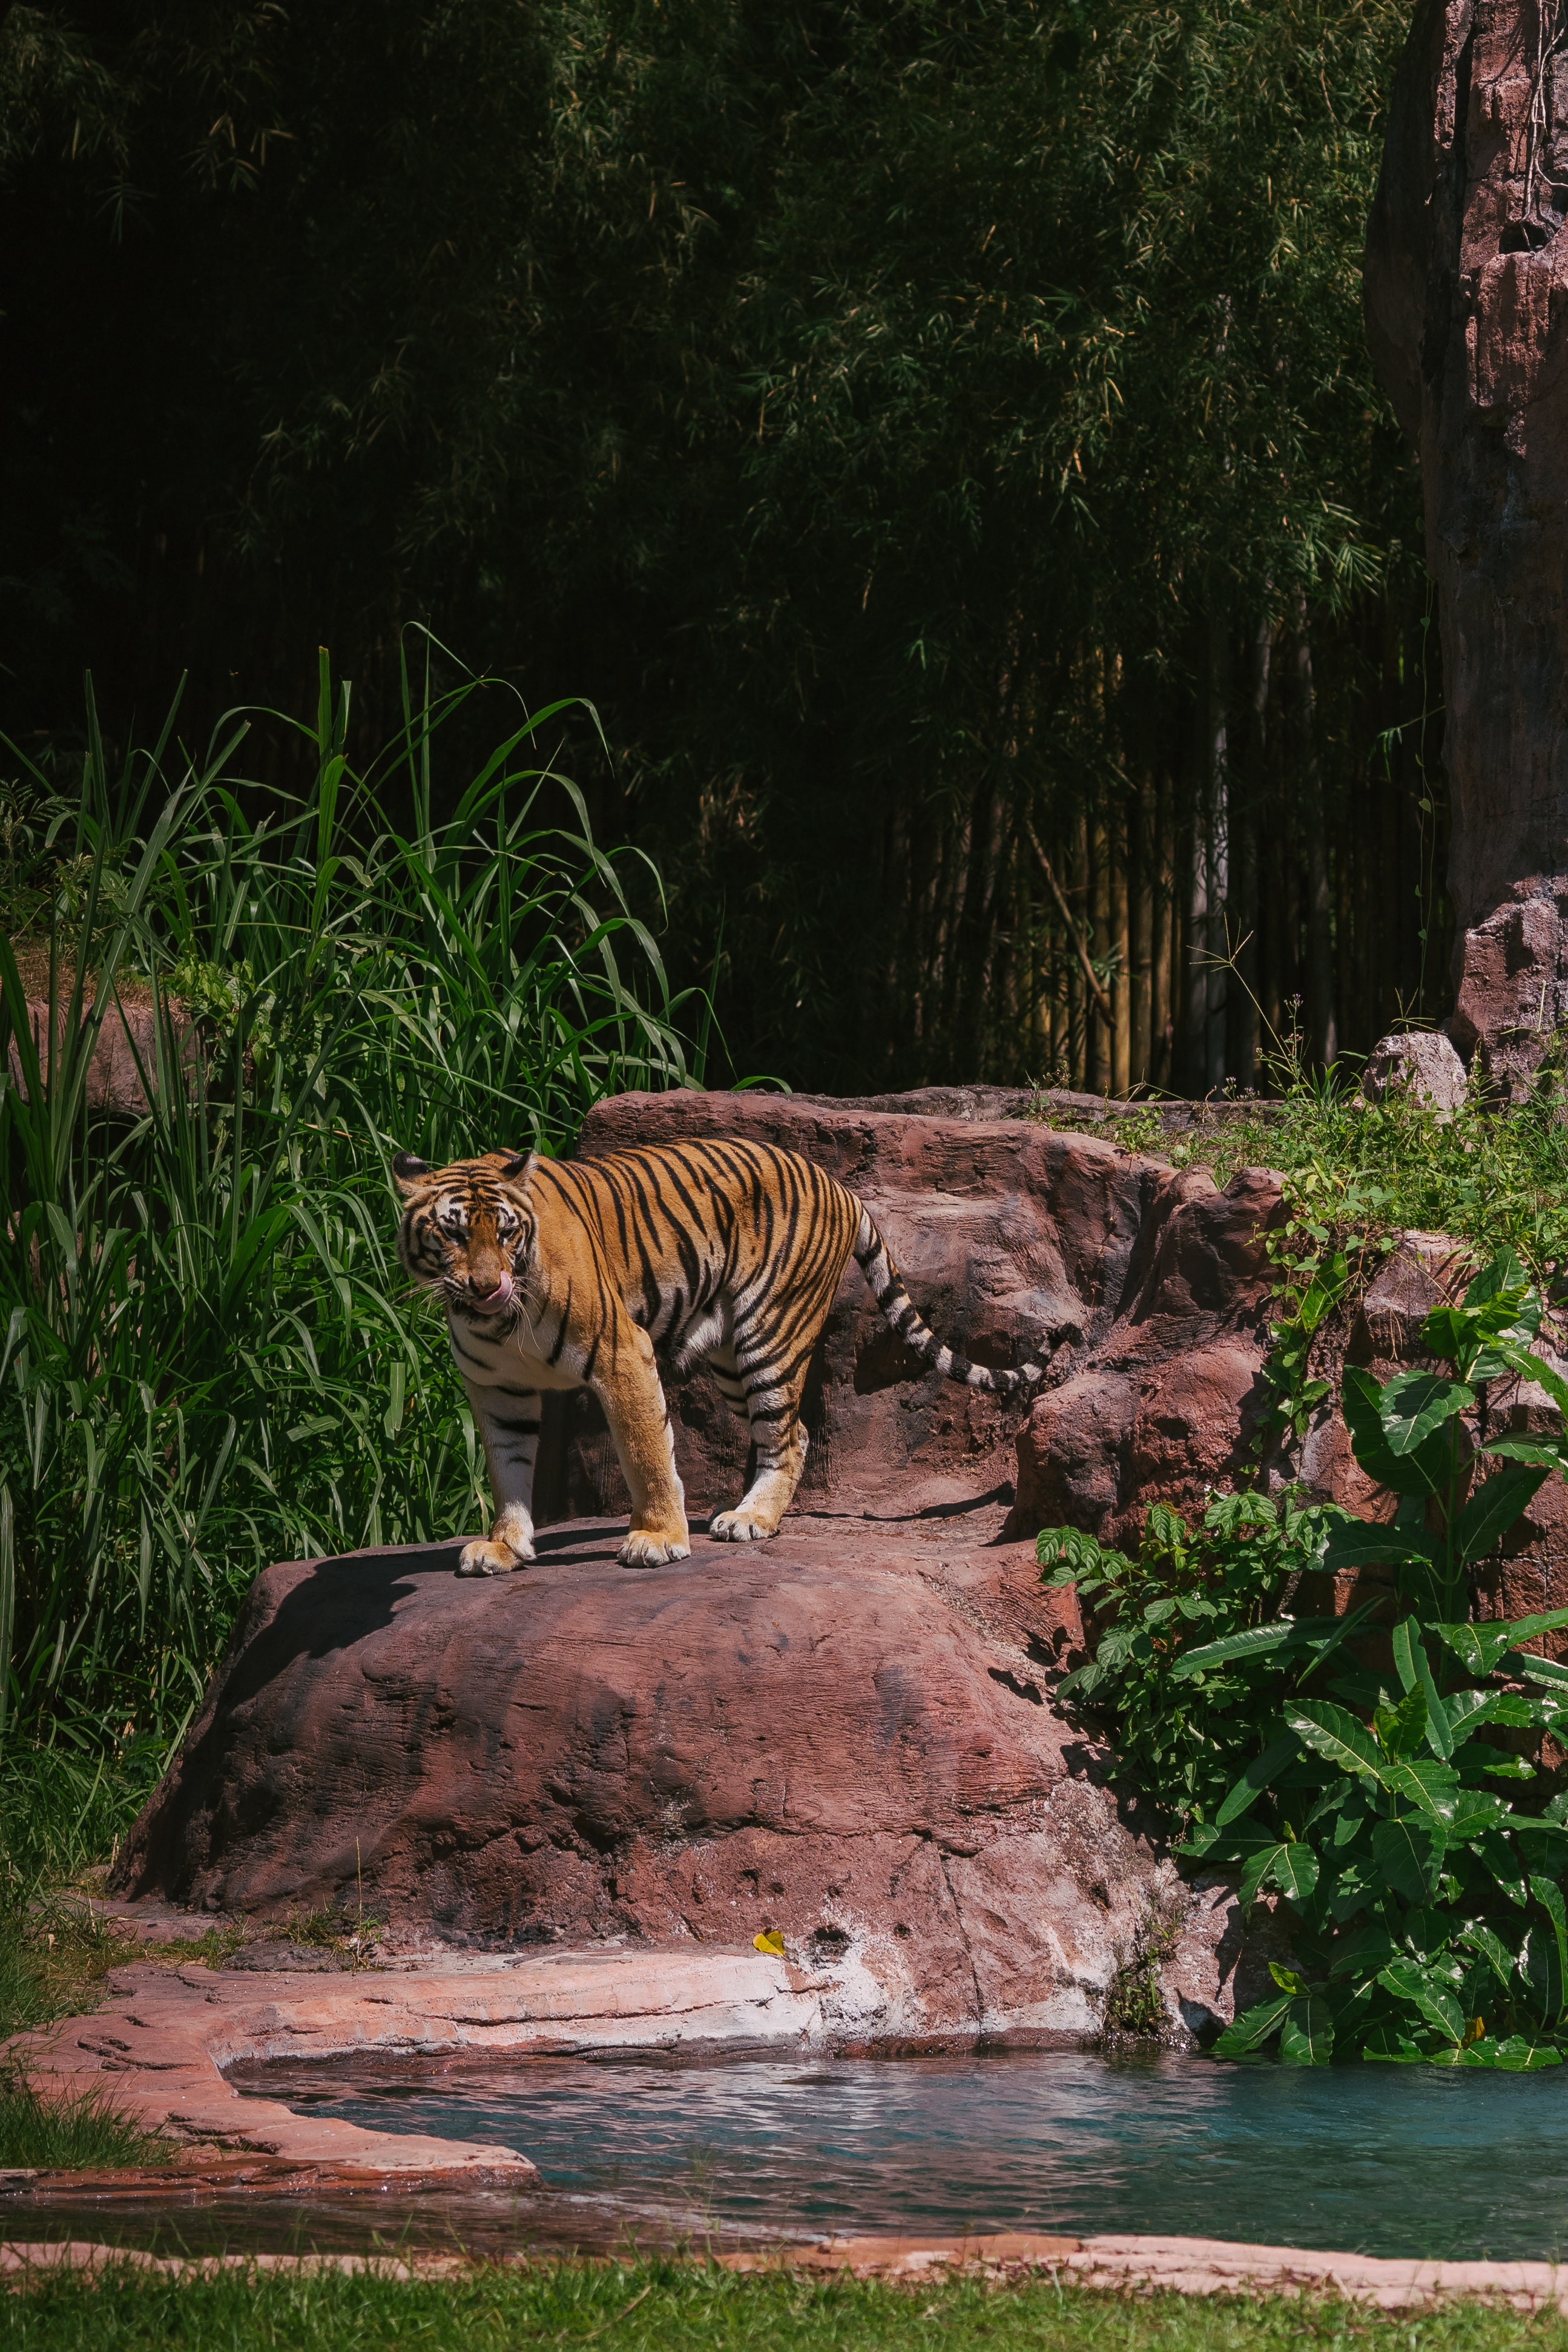tiger: (367, 1081, 1148, 1594)
